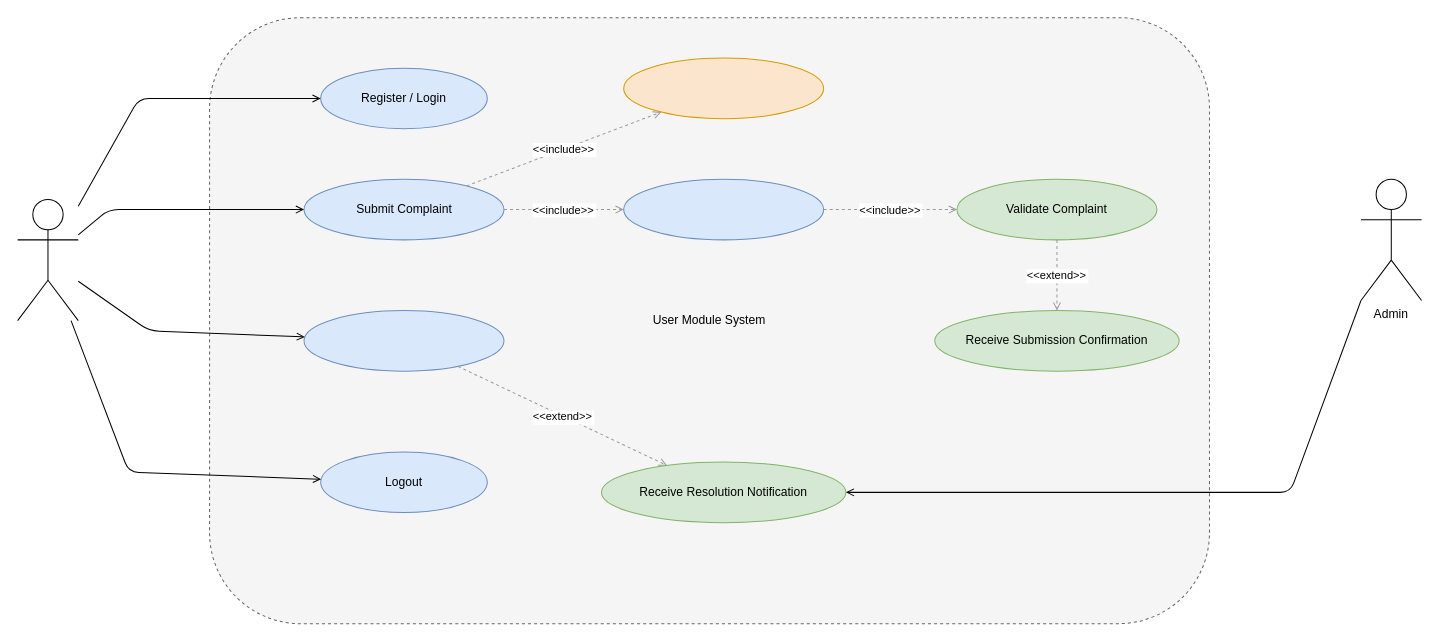
This 1439x641 diagram has some shape labels left out. The shapes that lost their labels are listed below. From the top down, each one's centre as x and y in pixels, then its label:
At (723,88): "Log Activity".
At (723,209): "Attach Geotag Image".
At (47,259): "User".
At (403,340): "View Complaint Status".
